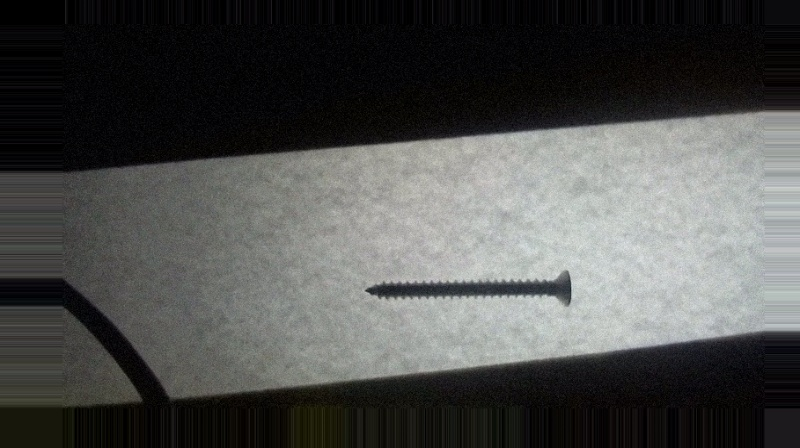S002: (362, 266, 575, 310)
